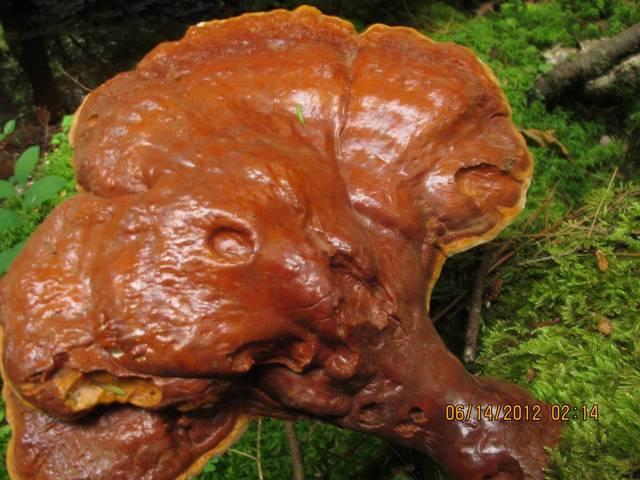Non-edible Mushroom: (0, 4, 568, 479)
